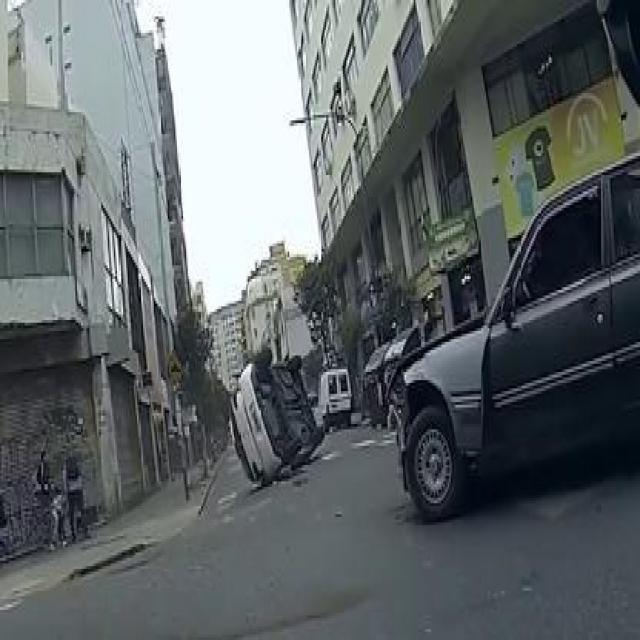accident: (225, 342, 322, 489)
